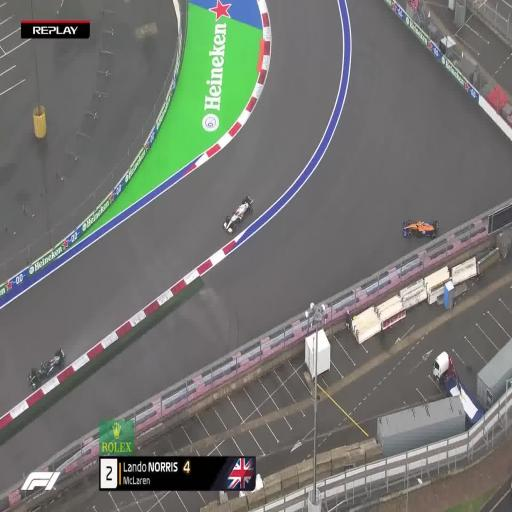f1_car: (27, 348, 65, 389), (223, 195, 253, 233), (403, 220, 439, 238)
